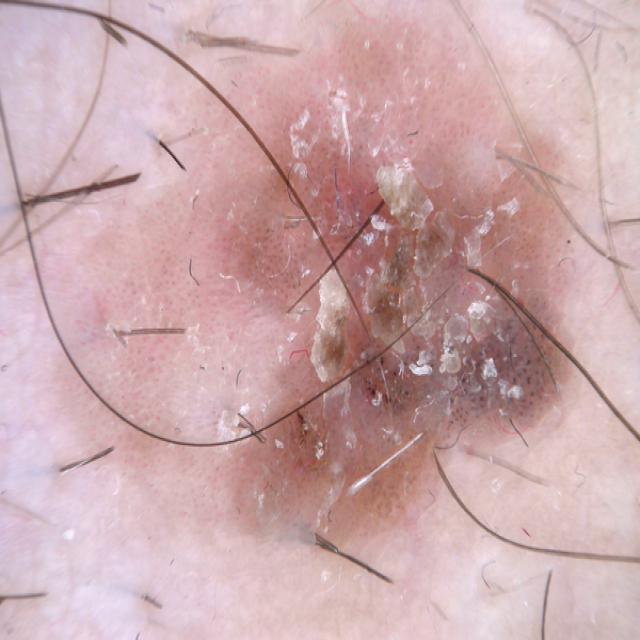Skin-Cancer Squamous cell carcinoma: (130, 1, 638, 640)
